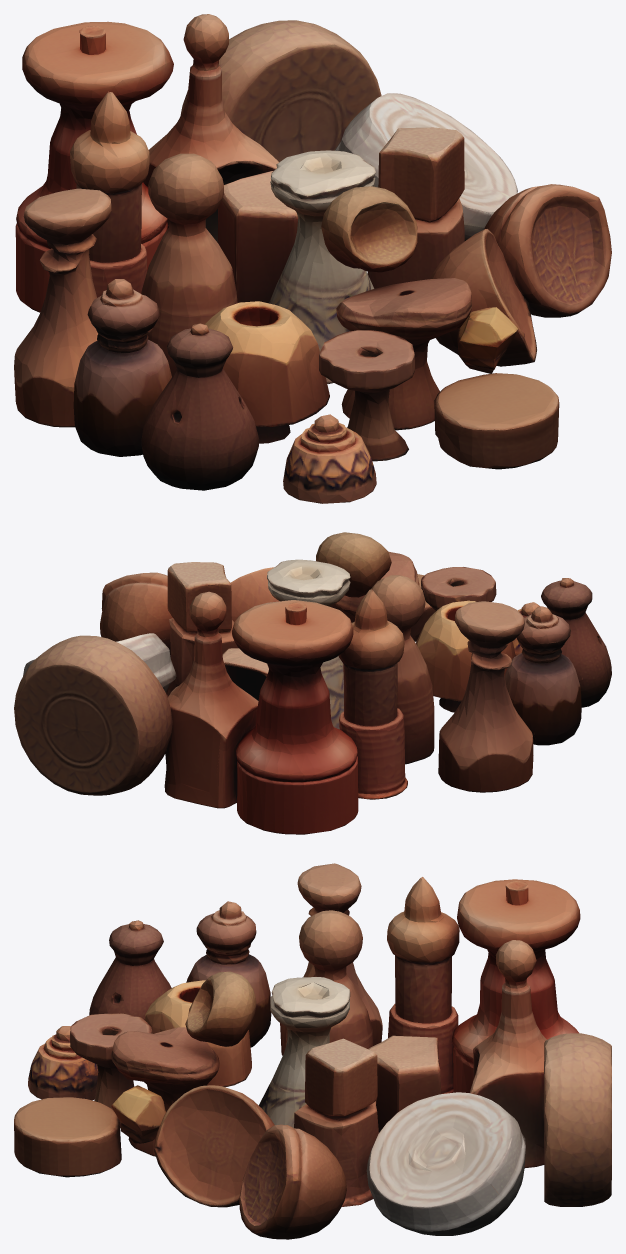
Rendered from clay-board-game-pieces-organic hi-res.jpeg.glb.
The picture shows the model from 3 angles, top to bottom: view 1: azimuth 30°, elevation 25°; view 2: azimuth 150°, elevation 25°; view 3: azimuth 270°, elevation 25°; orthographic projection. The views are drawn at different scales.
Parts seen in each view (by area): view 1: world; view 2: world; view 3: world.
Part boxes in pixels (x1,y1,x2,y2): world: [14, 14, 611, 503]; world: [14, 532, 611, 834]; world: [14, 863, 611, 1239].
Bounding box in the file's own units: 0.9063 × 0.4025 × 0.9857.
Materials: 1 (1 with a texture image).
